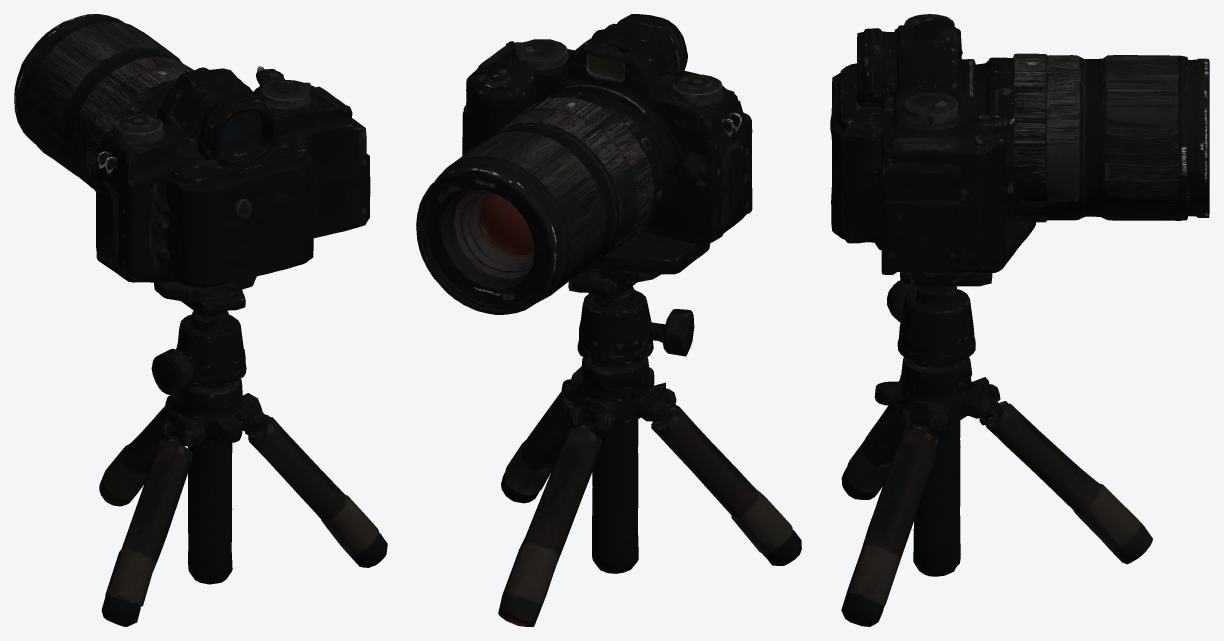
The model's file is prop-camera.glb.
3 views of the same model, side by side, from view 1: azimuth 30°, elevation 25°; view 2: azimuth 150°, elevation 25°; view 3: azimuth 270°, elevation 25° (orthographic). The views are drawn at different scales.
Visible parts, largest first — view 1: Mesh_0; view 2: Mesh_0; view 3: Mesh_0.
Part boxes in pixels (x1,y1,x2,y2): Mesh_0: [14, 14, 387, 626]; Mesh_0: [416, 14, 801, 626]; Mesh_0: [830, 14, 1209, 626].
Size of the model in its own units: 0.5824 by 1 by 0.6361.
1 material, 1 textured.
